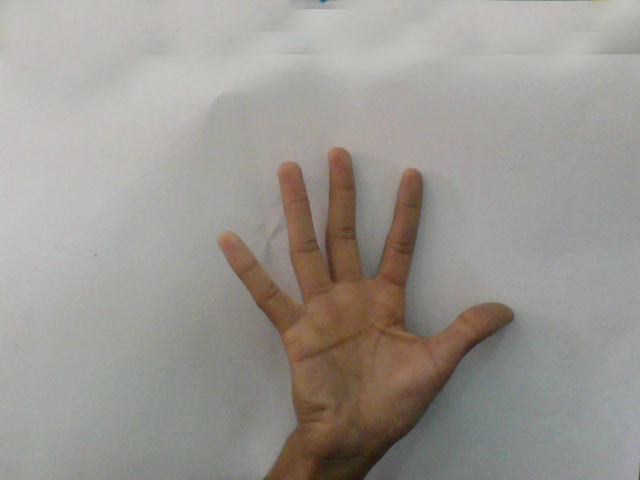hand: (206, 141, 523, 449)
